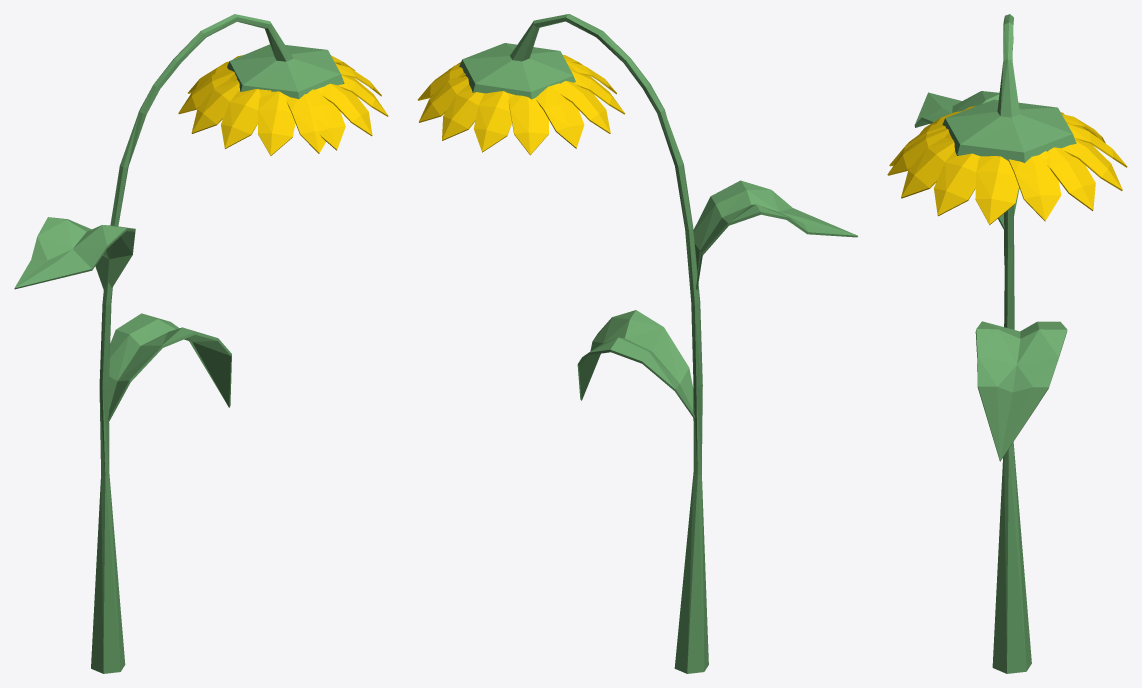
Rendered from sunflowe_broken.glb.
3 renders of one model, left to right at view 1: azimuth 30°, elevation 25°; view 2: azimuth 150°, elevation 25°; view 3: azimuth 270°, elevation 25°, orthographic. The views are drawn at different scales.
Visible parts, largest first — view 1: sunflowe_broken; view 2: sunflowe_broken; view 3: sunflowe_broken.
Part boxes in pixels (x1,y1,x2,y2): sunflowe_broken: (14,14,388,673); sunflowe_broken: (417,14,857,673); sunflowe_broken: (887,14,1127,673).
Size of the model in its own units: 0.9465 by 1.43 by 0.436.
Materials: 1 (1 with a texture image).
